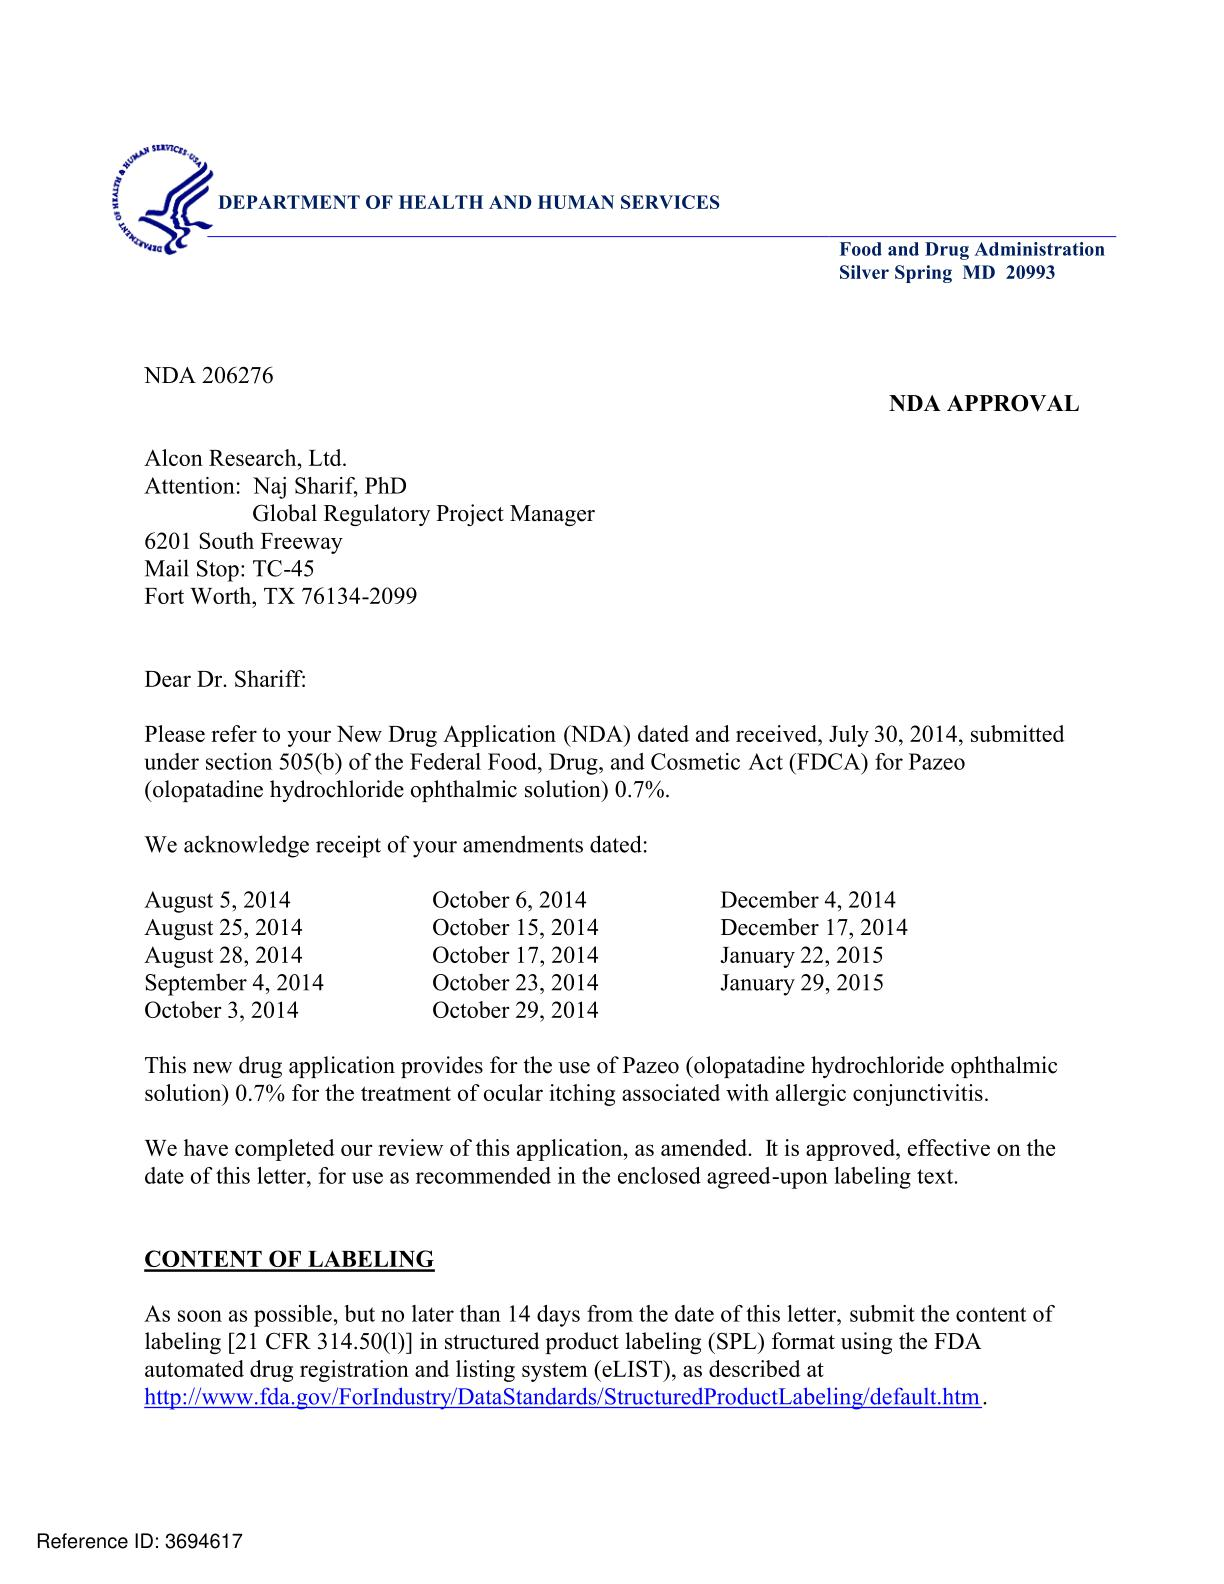nolines: (141, 883, 910, 1023)
